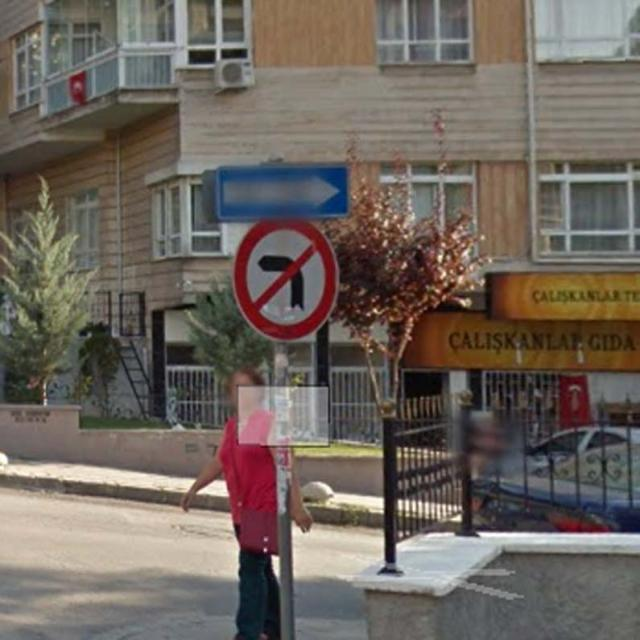soladonulmez: (234, 215, 338, 341)
